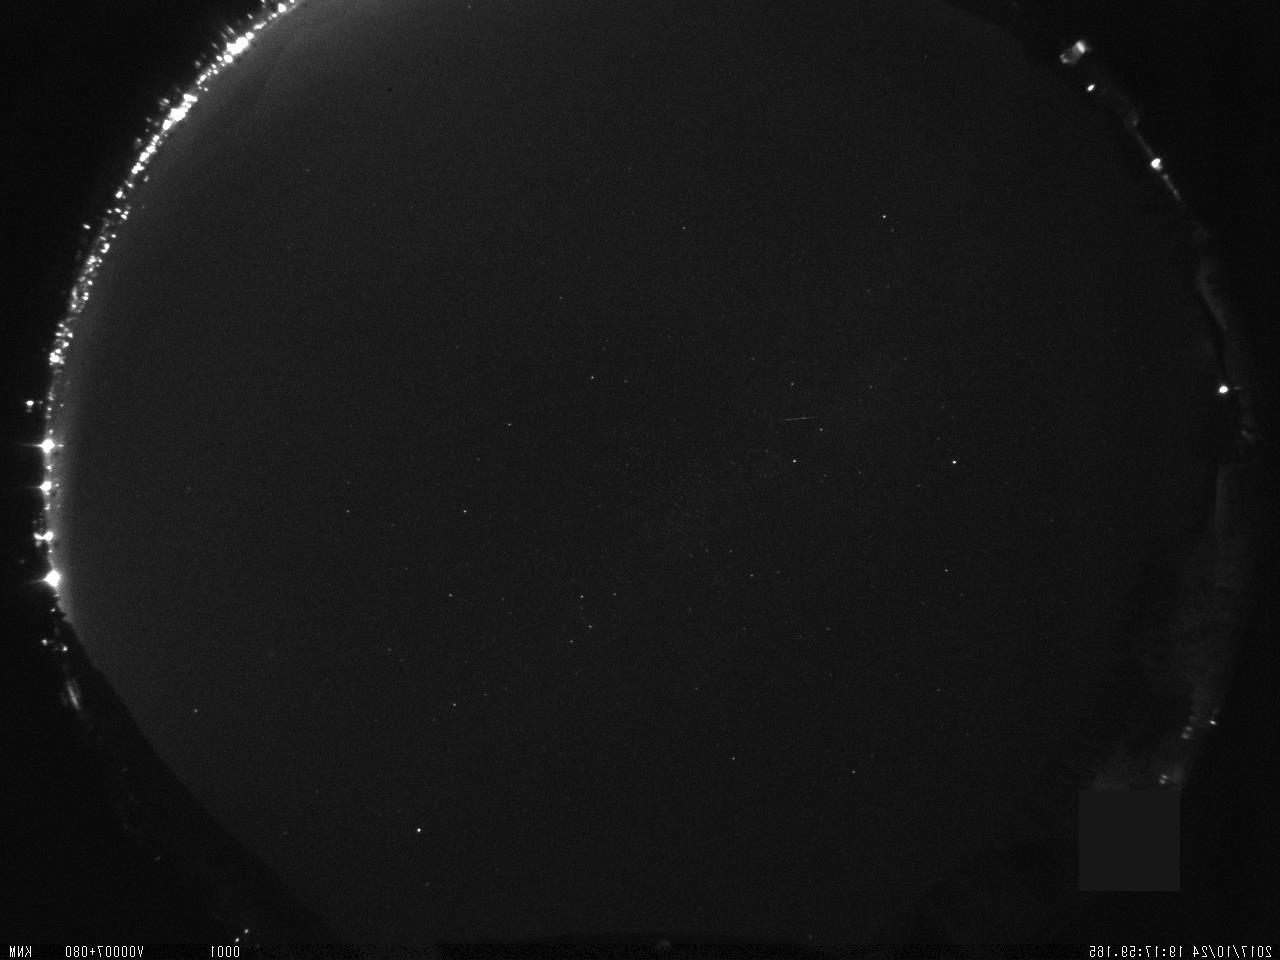meteor: (777, 408, 825, 427)
